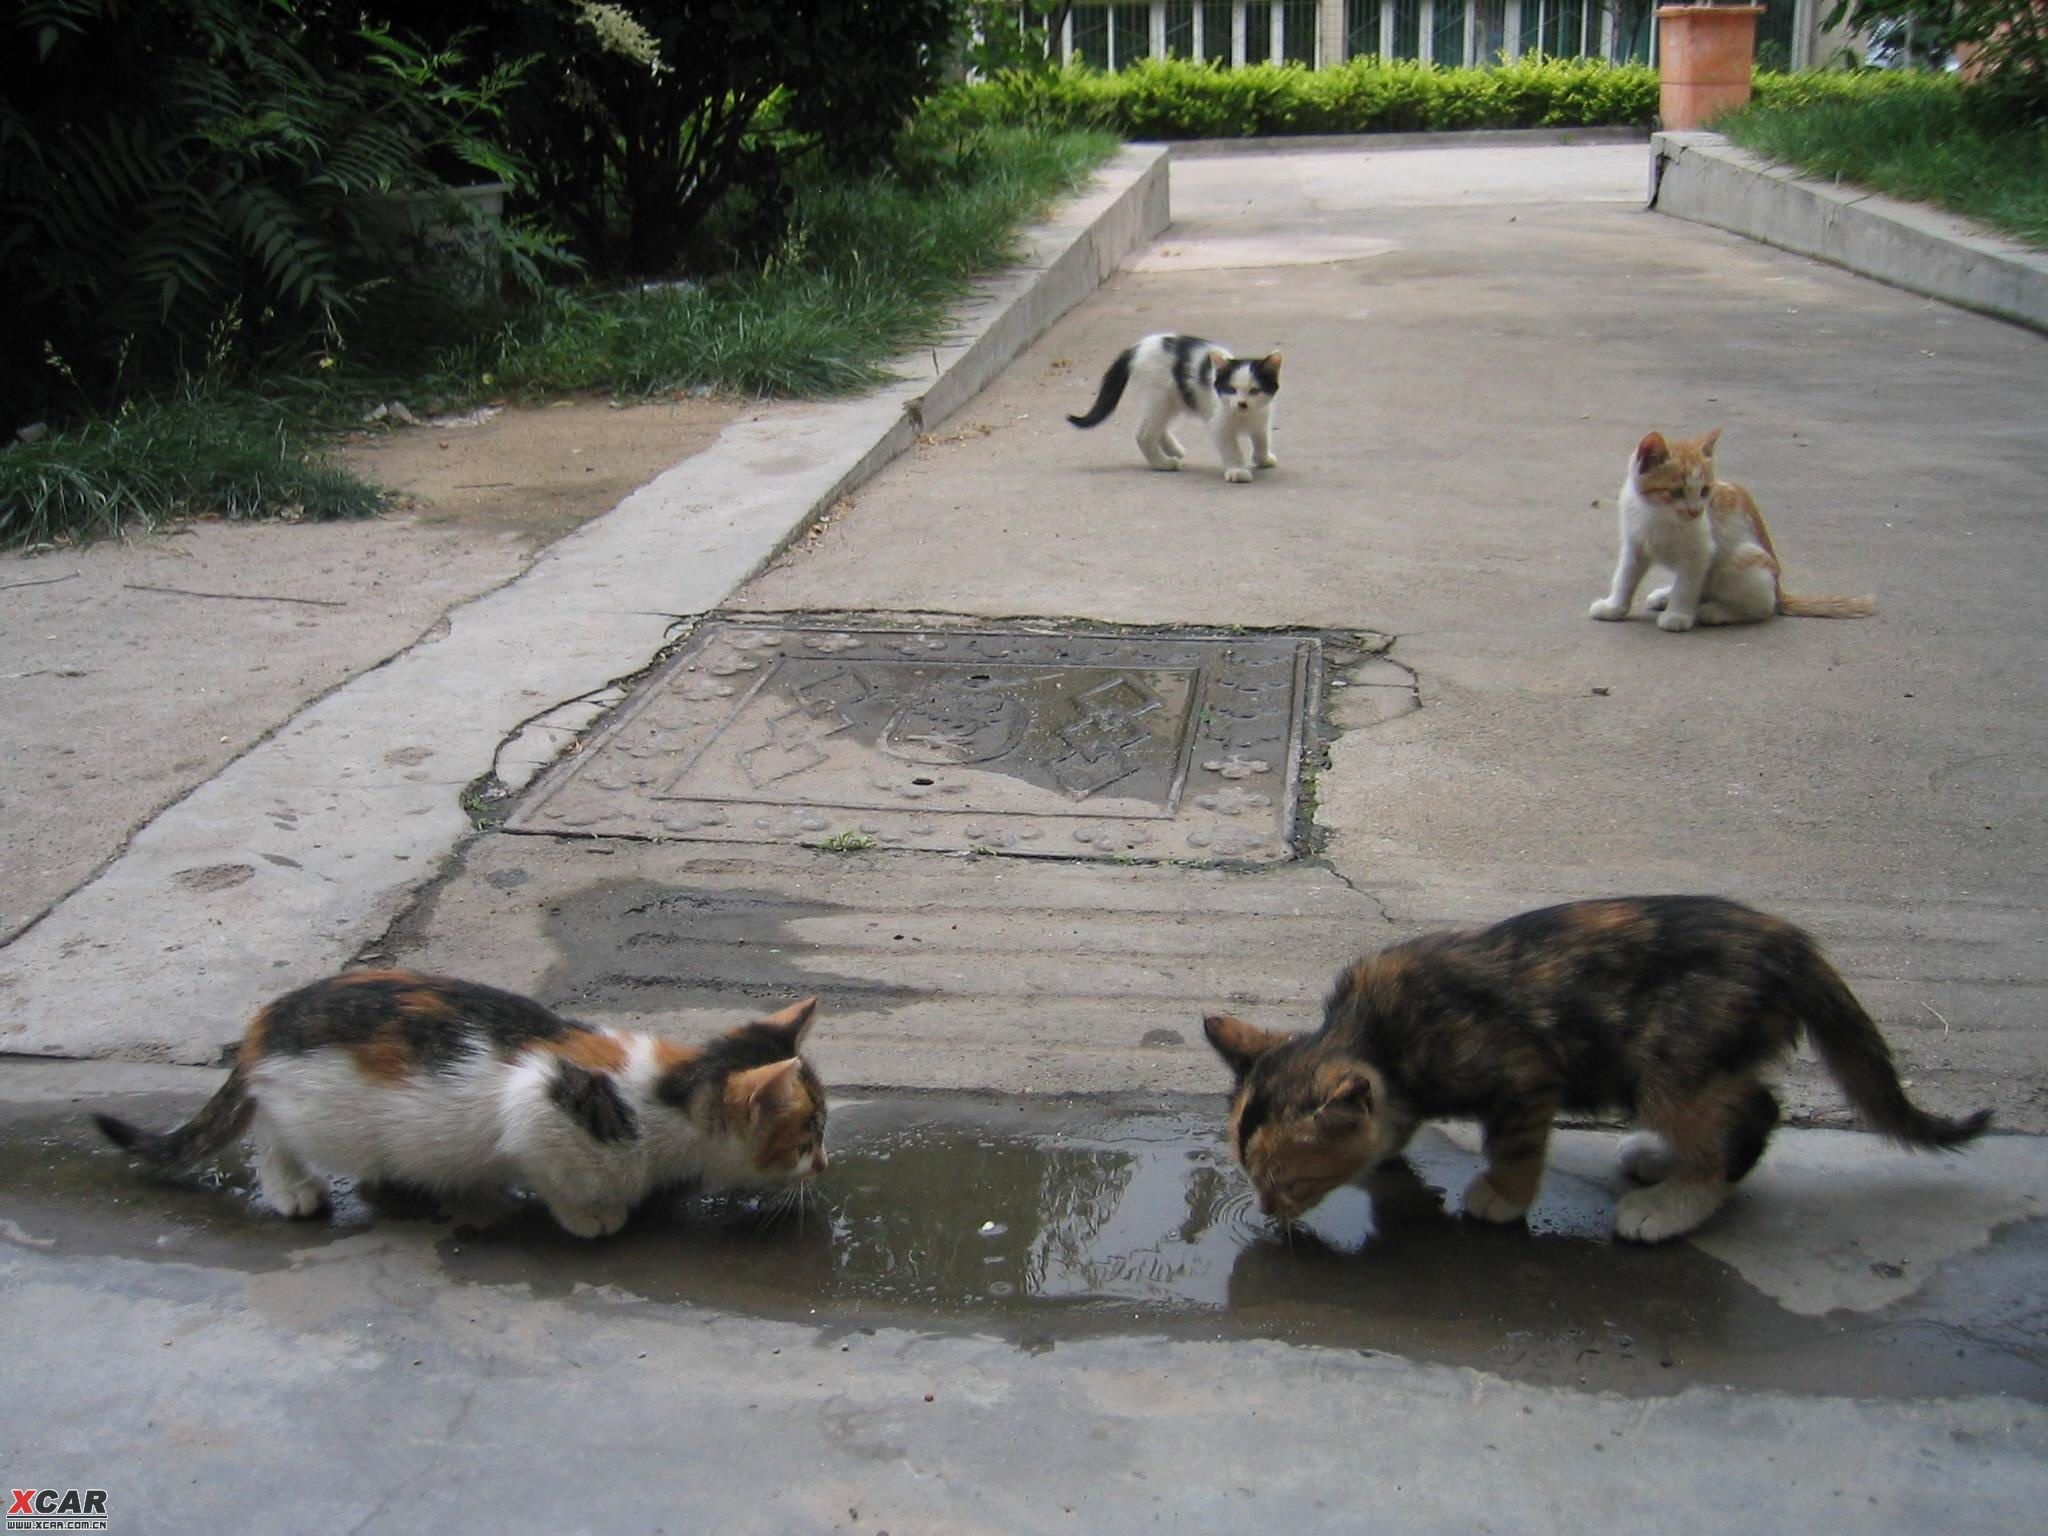cat: (1197, 892, 2000, 1249), (89, 963, 830, 1241), (1592, 424, 1877, 631), (1068, 334, 1284, 482)
